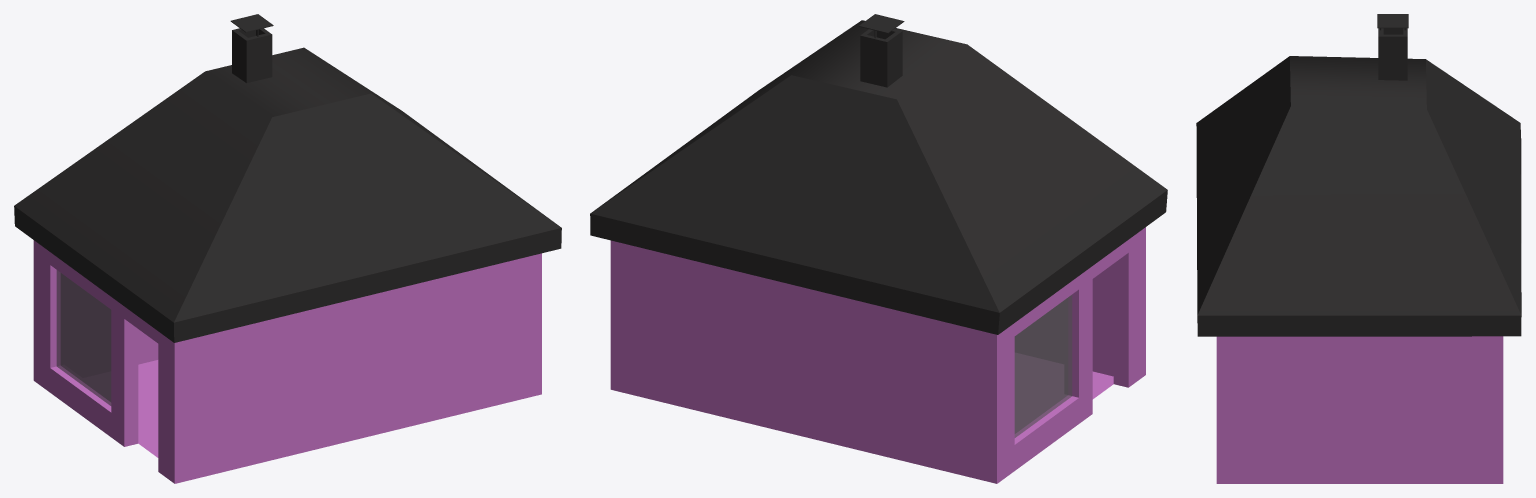
The model's file is baeckerladen.dae.
3 views of the same model, side by side, from view 1: azimuth 30°, elevation 25°; view 2: azimuth 150°, elevation 25°; view 3: azimuth 270°, elevation 25° (orthographic). The views are drawn at different scales.
Visible parts, largest first — view 1: roof, house, window2, kamin; view 2: roof, house, window2, kamin; view 3: roof, house, kamin, kaminOben.
Part boxes in pixels (box(x1,y1,x2,y2)): roof: box(14, 47, 561, 342); house: box(33, 240, 541, 483); window2: box(56, 270, 111, 405); kamin: box(232, 28, 272, 82); roof: box(590, 20, 1167, 334); house: box(610, 227, 1145, 483); window2: box(1014, 295, 1072, 437); kamin: box(860, 29, 902, 87); roof: box(1196, 56, 1521, 336); house: box(1216, 336, 1503, 483); kamin: box(1378, 28, 1407, 80); kaminOben: box(1377, 14, 1408, 28).
Bounding box in the file's own units: 6.35 × 5.58 × 4.53.
